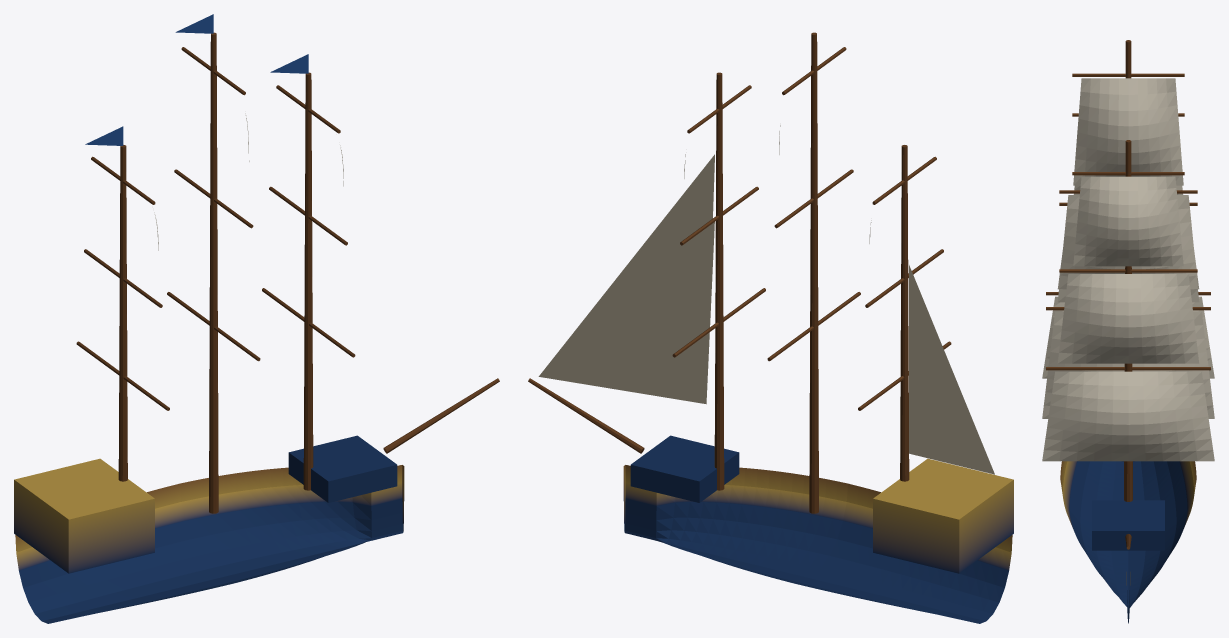
Rendered from ship.glb.
The picture shows the model from 3 angles, left to right: view 1: azimuth 30°, elevation 25°; view 2: azimuth 150°, elevation 25°; view 3: azimuth 270°, elevation 25°; orthographic projection. The views are drawn at different scales.
Visible parts, largest first — view 1: Ship; view 2: Ship; view 3: Ship.
Boxes of the visible parts, left/top/right/bottom form: Ship: left=14, top=14, right=499, bottom=623; Ship: left=528, top=32, right=1013, bottom=623; Ship: left=1042, top=40, right=1214, bottom=623.
Size of the model in its own units: 5.41 by 6.27 by 1.9.
